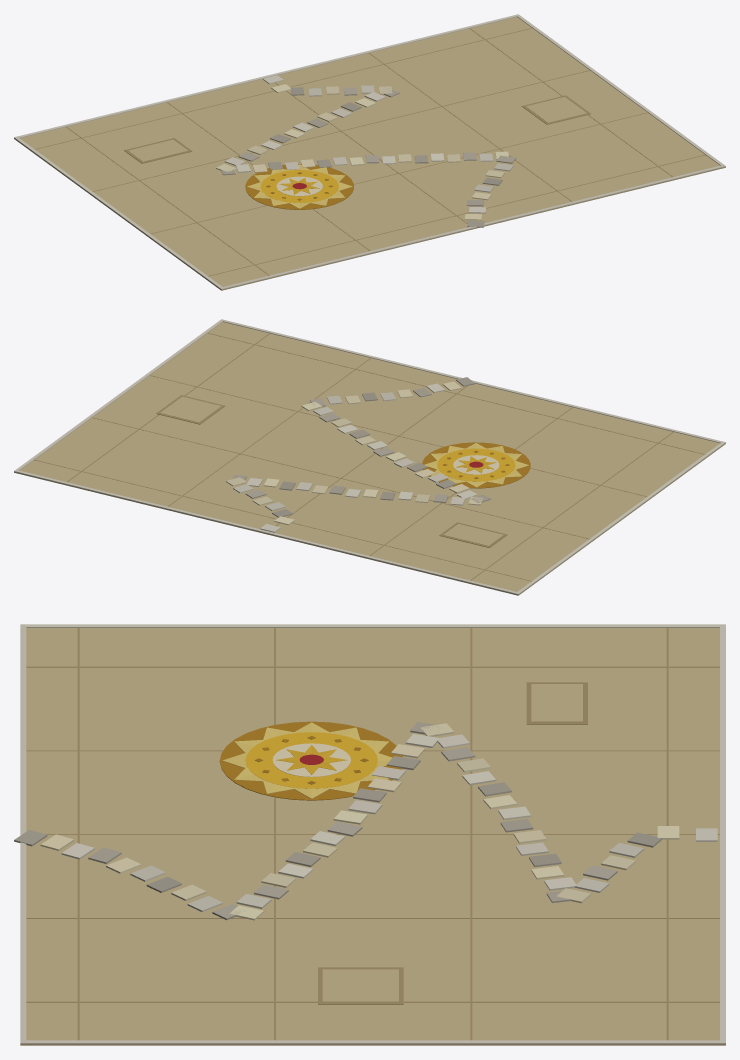
Rendered from Decor_DogeAltar_Ground.fbx.
The picture shows the model from 3 angles, top to bottom: view 1: azimuth 30°, elevation 25°; view 2: azimuth 150°, elevation 25°; view 3: azimuth 270°, elevation 25°; orthographic projection. The views are drawn at different scales.
Visible parts, largest first — view 1: Ground_Body; view 2: Ground_Body; view 3: Ground_Body.
Part boxes in pixels (x1=…): Ground_Body: x1=14, y1=14, x2=725, y2=290; Ground_Body: x1=14, y1=319, x2=725, y2=595; Ground_Body: x1=14, y1=624, x2=725, y2=1045.
Bounding box in the file's own units: 160 × 0.59 × 115.
